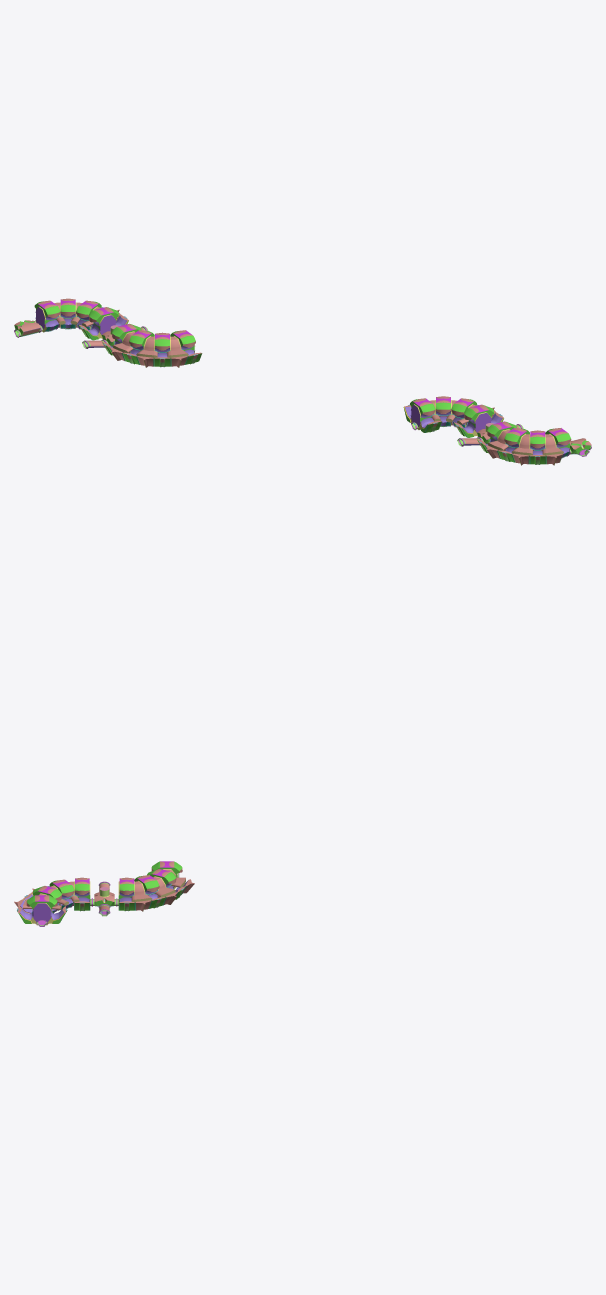
The model's file is gemini_connector_props.fbx.
The picture shows the model from 3 angles, top to bottom: view 1: azimuth 30°, elevation 25°; view 2: azimuth 210°, elevation 25°; view 3: azimuth 270°, elevation 25°; orthographic projection. The views are drawn at different scales.
Visible parts, largest first — view 1: cluster_68, cluster_54; view 2: cluster_54, cluster_68; view 3: cluster_54, cluster_68.
Part boxes in pixels (x1=…): cluster_68: x1=102, y1=323, x2=202, y2=367; cluster_54: x1=34, y1=298, x2=128, y2=340; cluster_54: x1=477, y1=421, x2=571, y2=465; cluster_68: x1=403, y1=396, x2=503, y2=437; cluster_54: x1=116, y1=861, x2=194, y2=911; cluster_68: x1=14, y1=877, x2=92, y2=926.
Size of what is drawn, in the model's own units: 2194630 by 147740 by 1421942.
